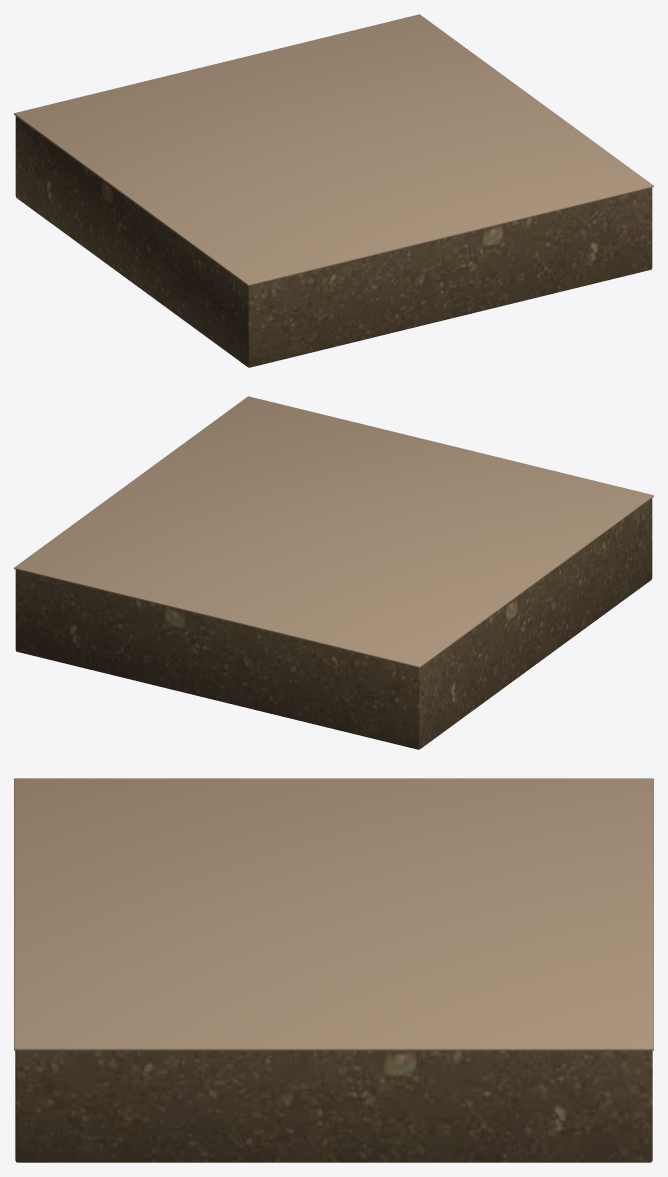
The model's file is TER-ATR-001_anim.glb.
3 views of the same model, one above another, from view 1: azimuth 30°, elevation 25°; view 2: azimuth 150°, elevation 25°; view 3: azimuth 270°, elevation 25° (orthographic). The views are drawn at different scales.
Visible parts, largest first — view 1: TER-ATR-001_anim0; view 2: TER-ATR-001_anim0; view 3: TER-ATR-001_anim0.
Boxes of the visible parts, x1,y1,x2,y2 form: TER-ATR-001_anim0: (14,14,653,367); TER-ATR-001_anim0: (14,396,653,749); TER-ATR-001_anim0: (14,778,653,1162).
Size of the model in its own units: 1 by 0.4002 by 1.
Materials: 6 (2 with a texture image).
